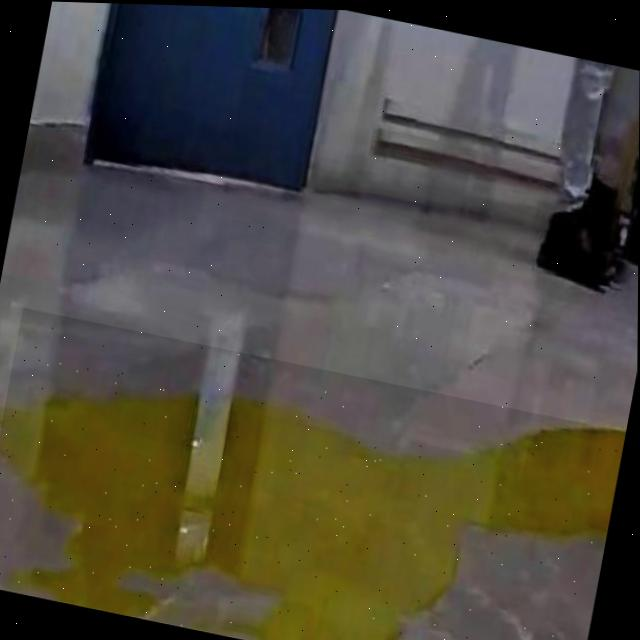spillage: (0, 398, 626, 640)
